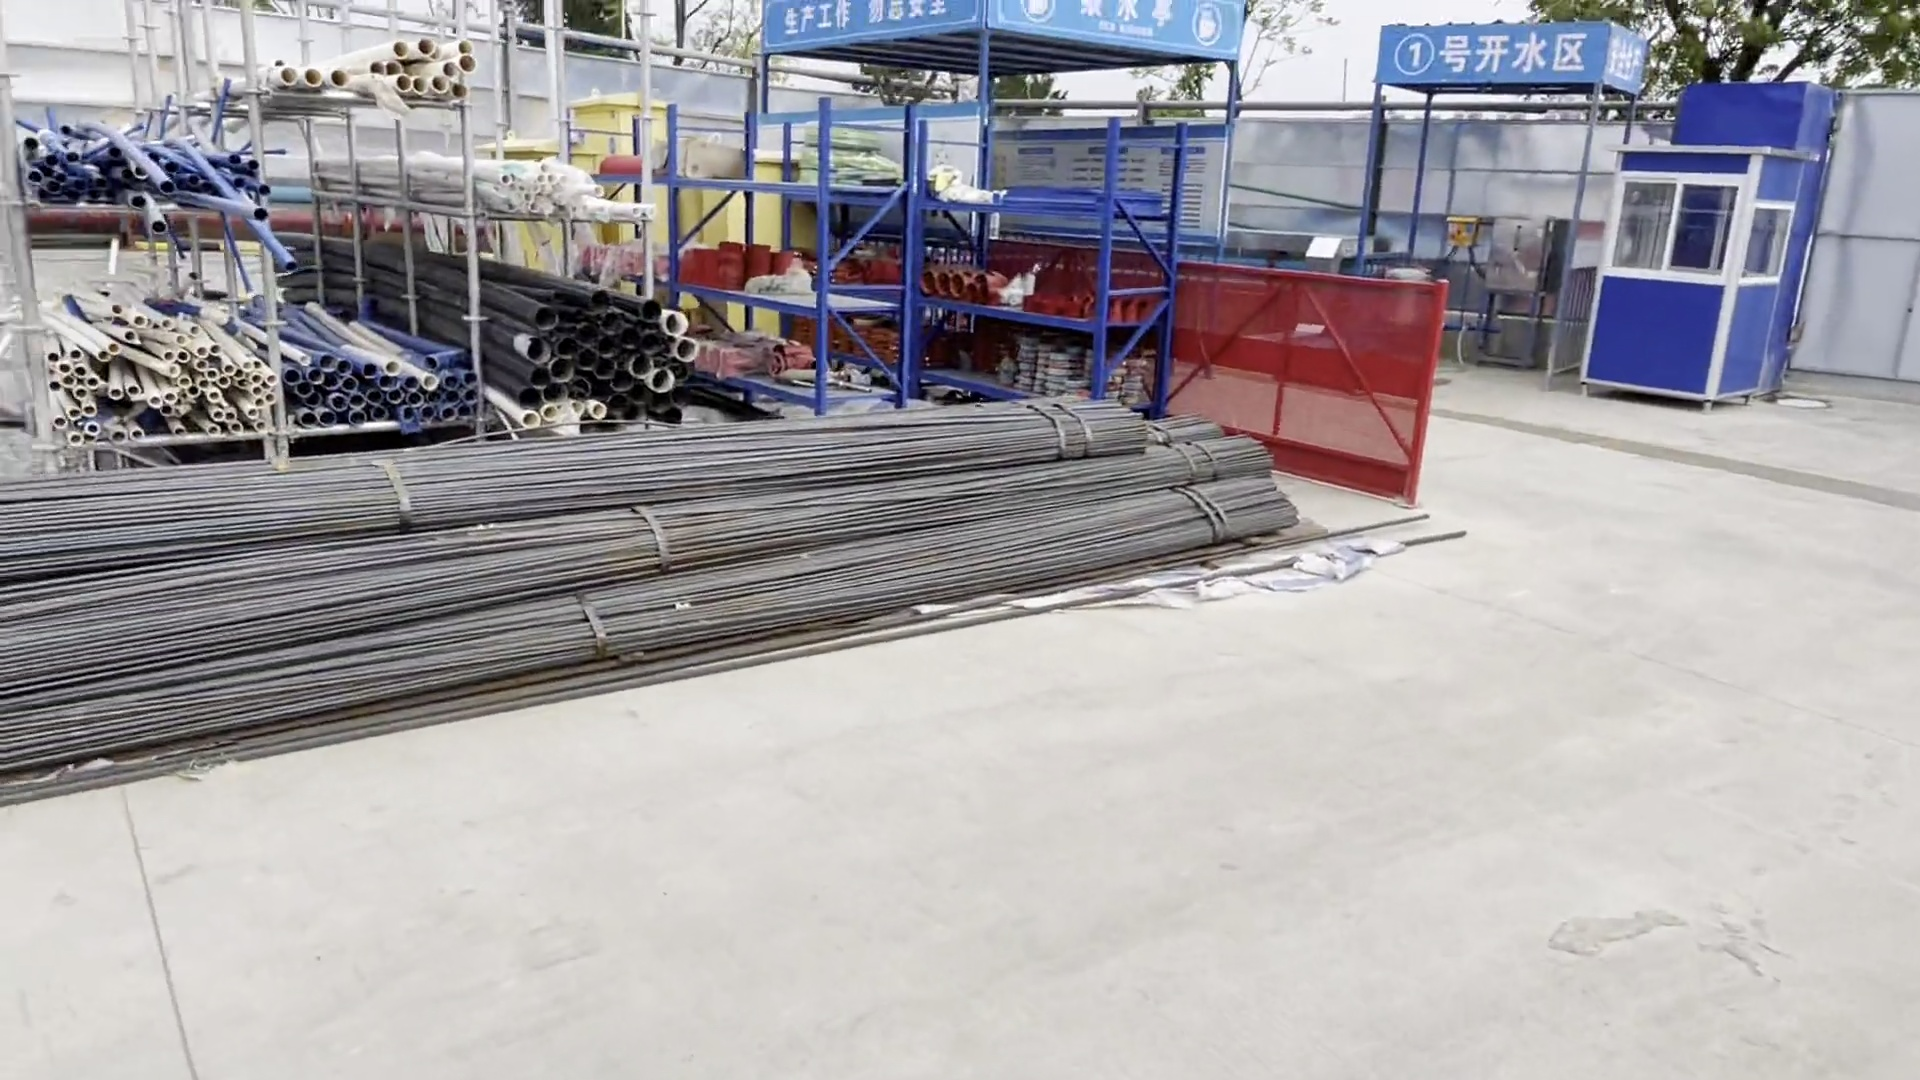ebox: (508, 104, 770, 323), (1447, 218, 1473, 248)
fence: (1171, 255, 1427, 501)
rebar: (1, 396, 1290, 789)
slogan: (766, 4, 978, 38), (1602, 32, 1654, 96)
